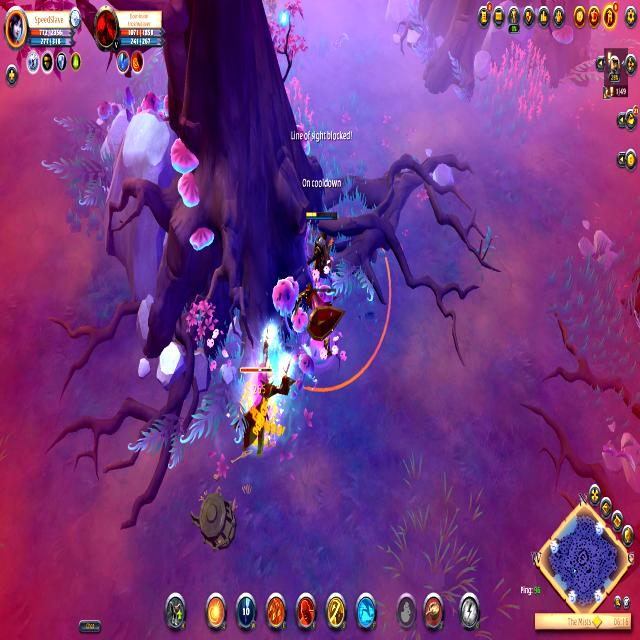ore: (234, 326, 298, 453), (302, 262, 344, 366)
red: (302, 202, 340, 287)
silver: (283, 220, 395, 397)
